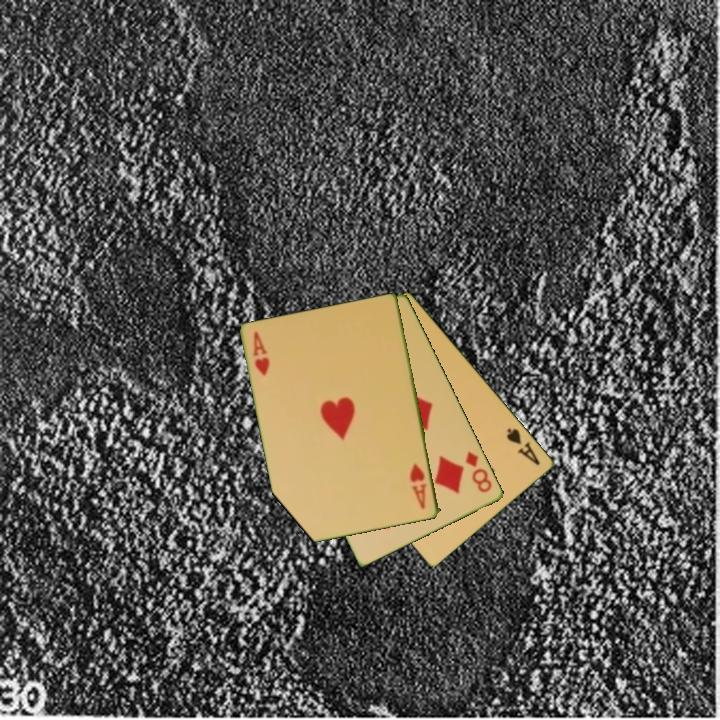8d: (462, 448, 495, 496)
Ah: (407, 460, 430, 512), (250, 328, 273, 379)
As: (503, 424, 543, 468)
